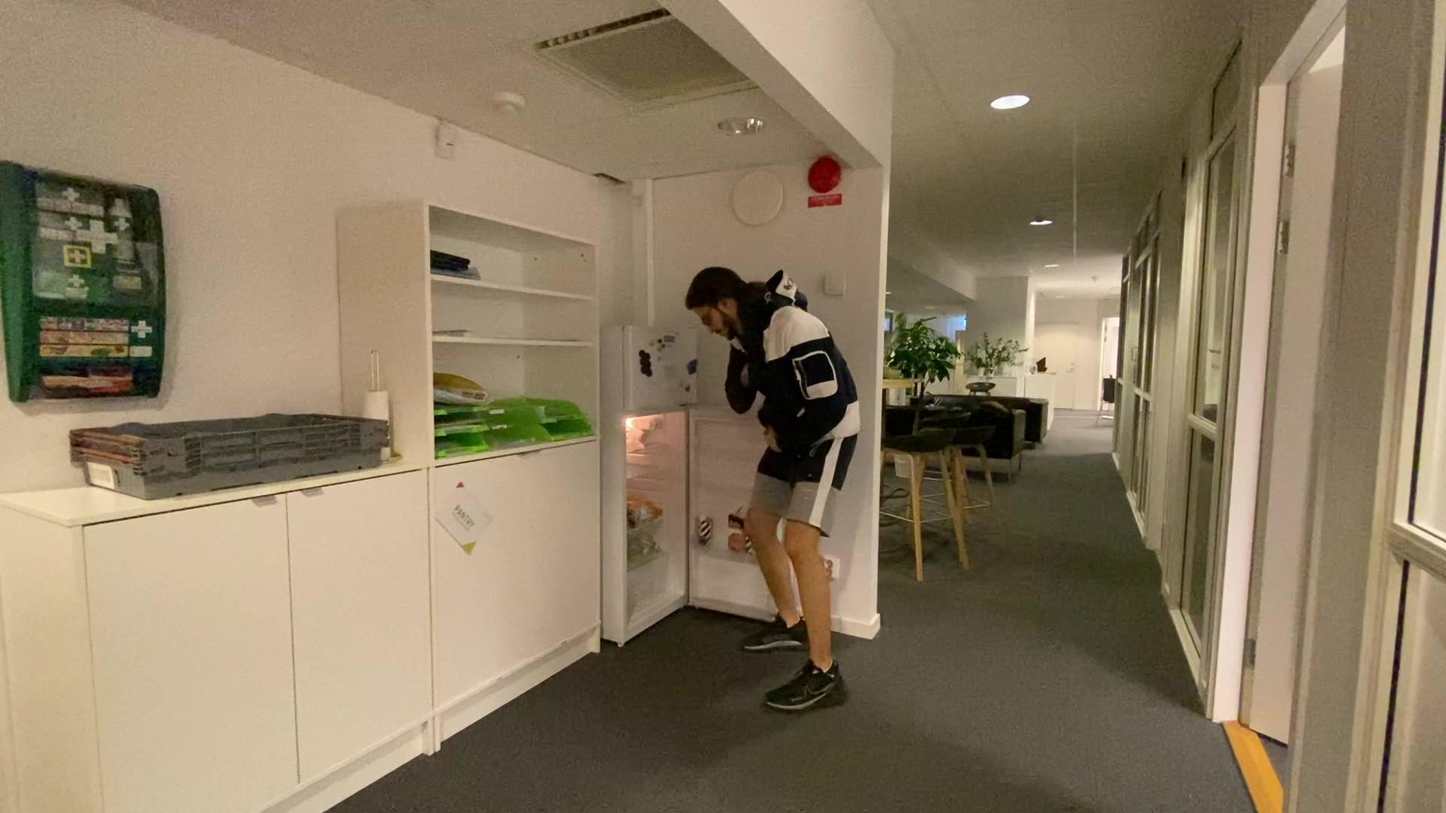shoplifting: (688, 268, 861, 711)
